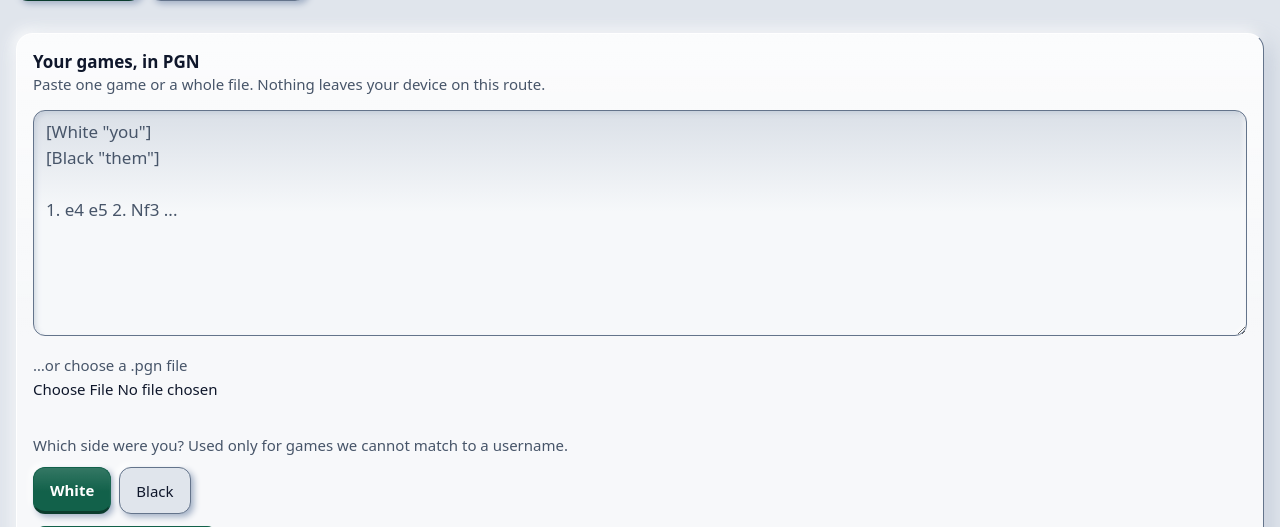
Test: ImportScreen, the PGN paste path › re-pasting the same game adds nothing and says the games were already held
Click the text box labelled "Your games, in PGN" at (640, 223), box [33, 110, 1247, 336]
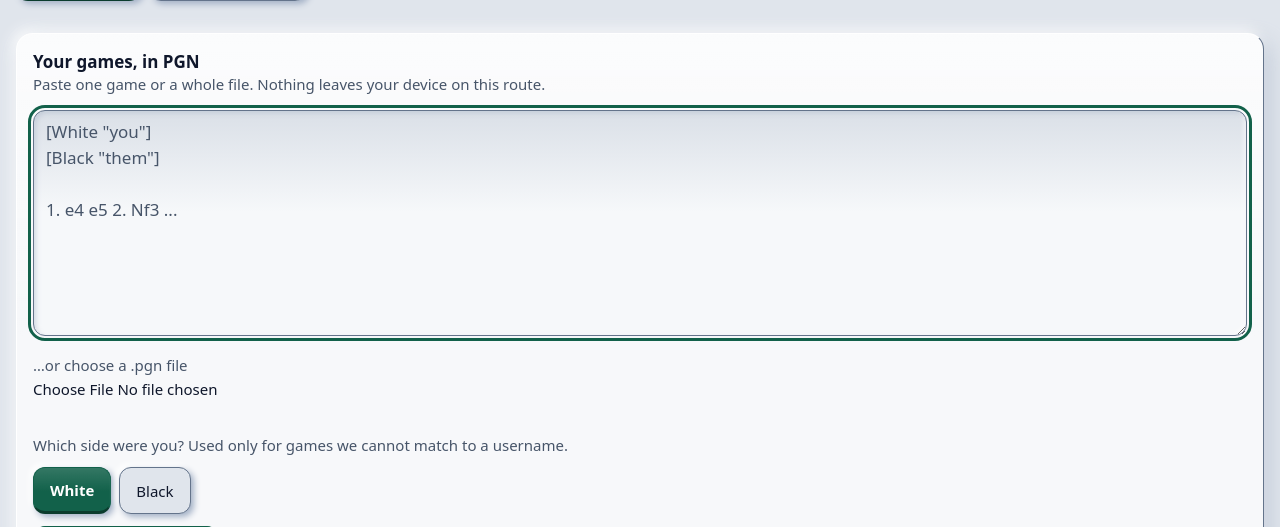
Type keys "[Event \"Live Chess\"] [White \"learner_one\"] [Black \"Rosa\"] [Result \"1-0\"] [UTCDate \"2026.09.20\"] [UTCTime \"14:00:00\"] [TimeControl \"600\"] 1. e4 e5 2. Nf3 Nc6 3. Bb5 a6 1-0"
(page scrolled)
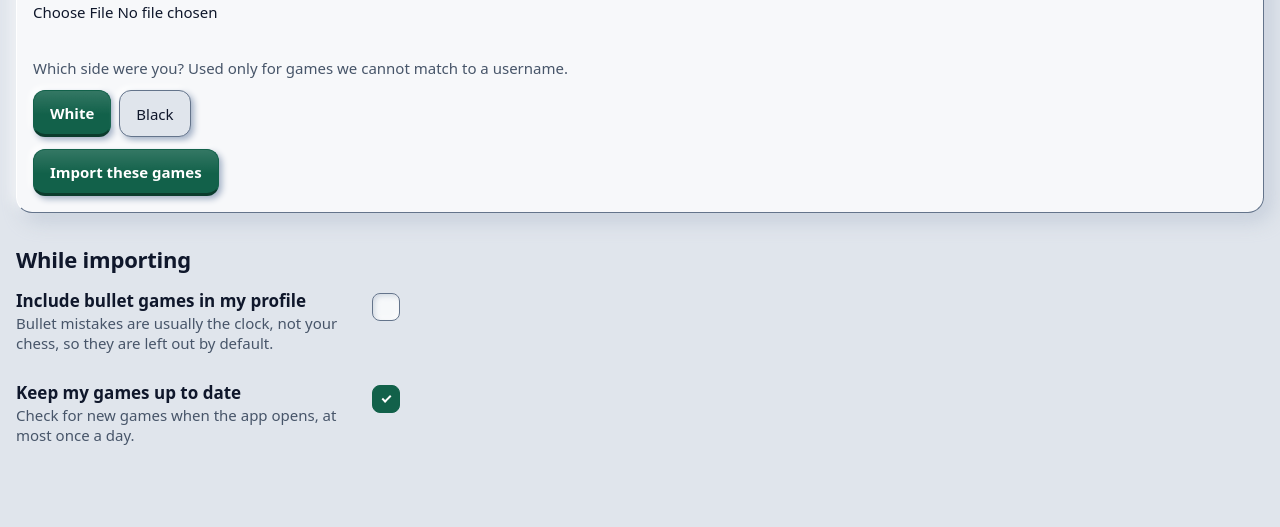
Click the button "Import these games" at (126, 172), box [33, 149, 219, 196]
(page scrolled)
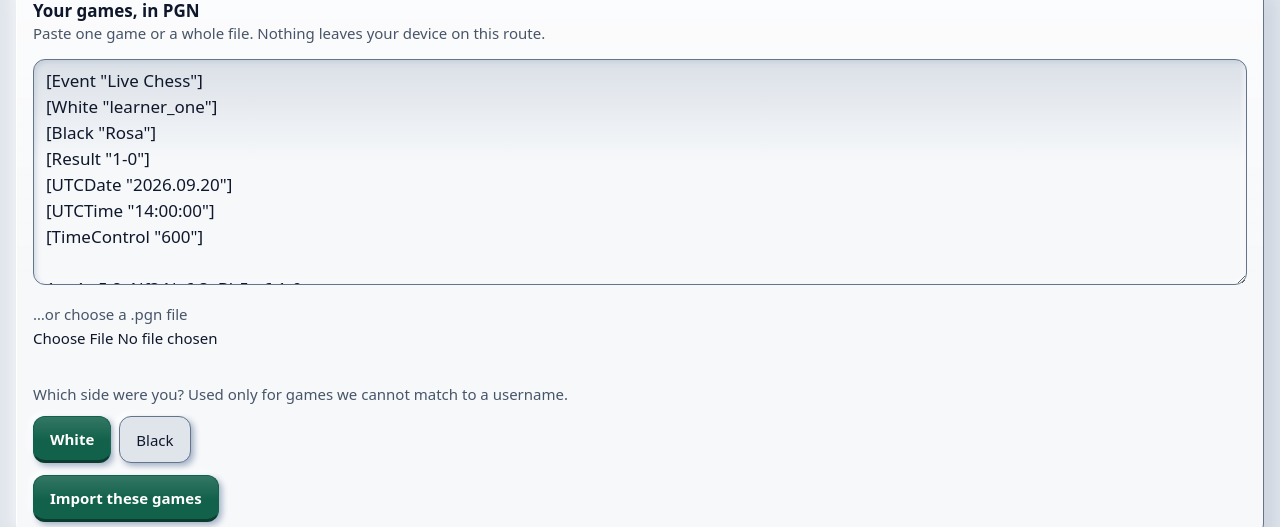
Note: Now the same paste again.
Click the text box labelled "Your games, in PGN" at (640, 172), box [33, 59, 1247, 285]
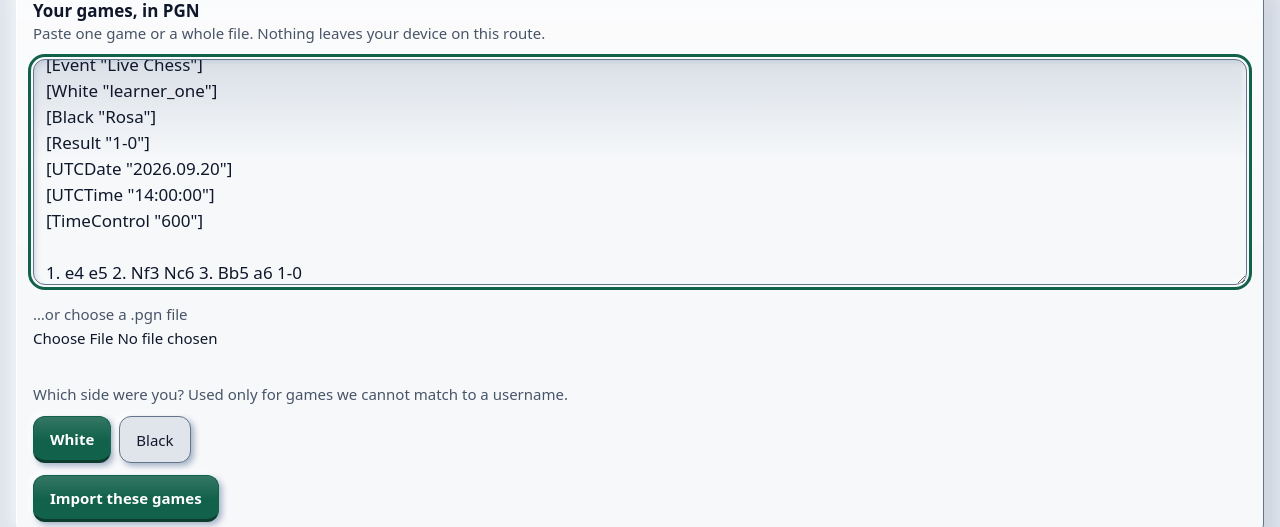
Type keys "[Event \"Live Chess\"] [White \"learner_one\"] [Black \"Rosa\"] [Result \"1-0\"] [UTCDate \"2026.09.20\"] [UTCTime \"14:00:00\"] [TimeControl \"600\"] 1. e4 e5 2. Nf3 Nc6 3. Bb5 a6 1-0"
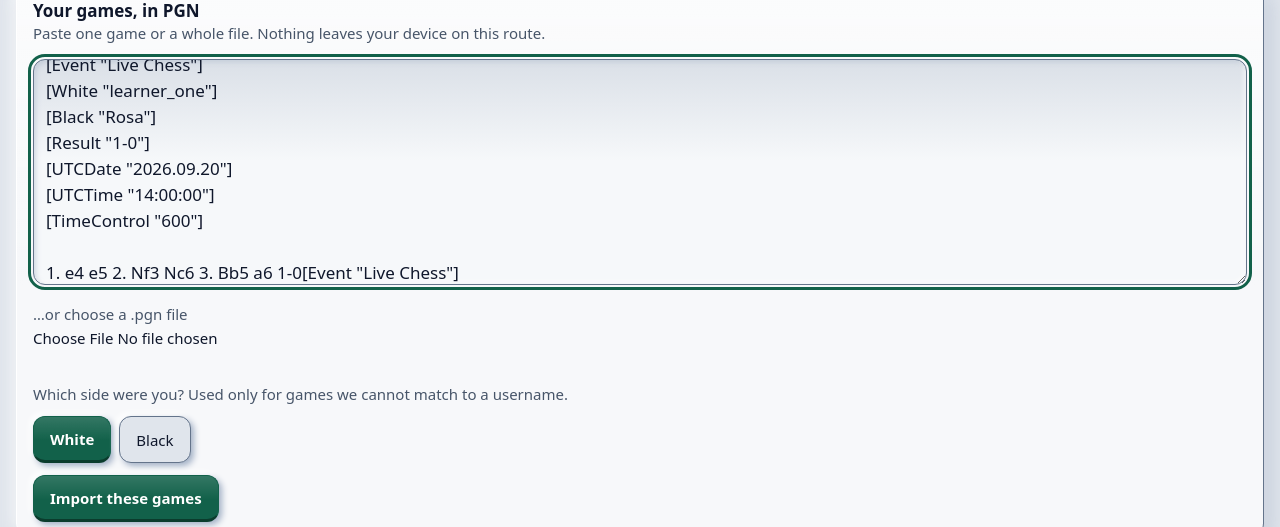
Click the button "Import these games" at (126, 498), box [33, 475, 219, 522]
(page scrolled)
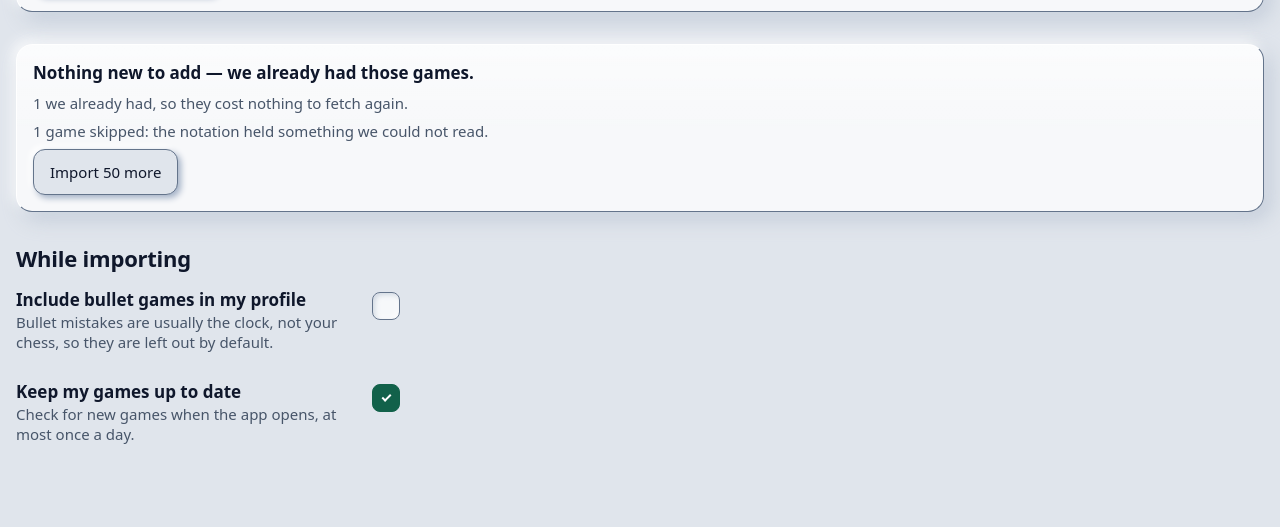
Result: the button "Import 50 more" is shown at [33, 149, 178, 195]
Result: the text "Nothing new to add — we already had those games." is shown at [33, 61, 474, 84]
